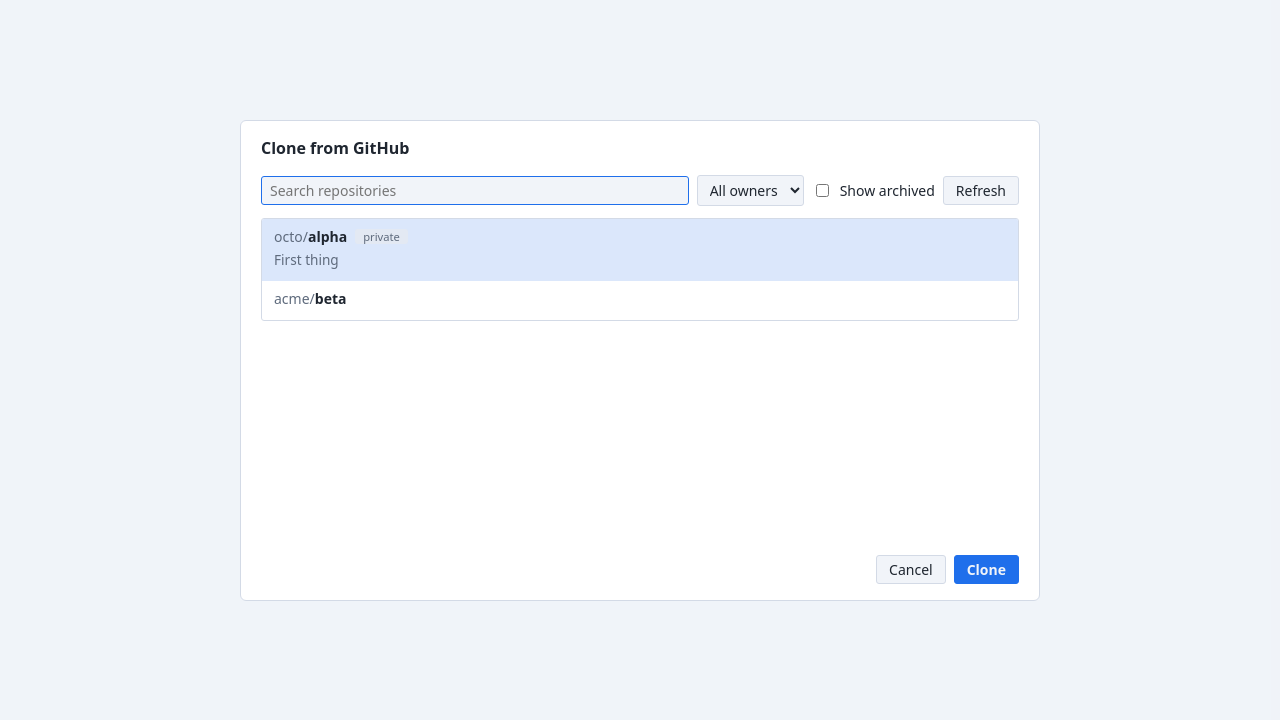
Test case: RepoPickerDialog › filters by search
Step 1. Type "FIRST" into the search field labelled "Search repositories" → (475,190), box 261,176 -> 689,204
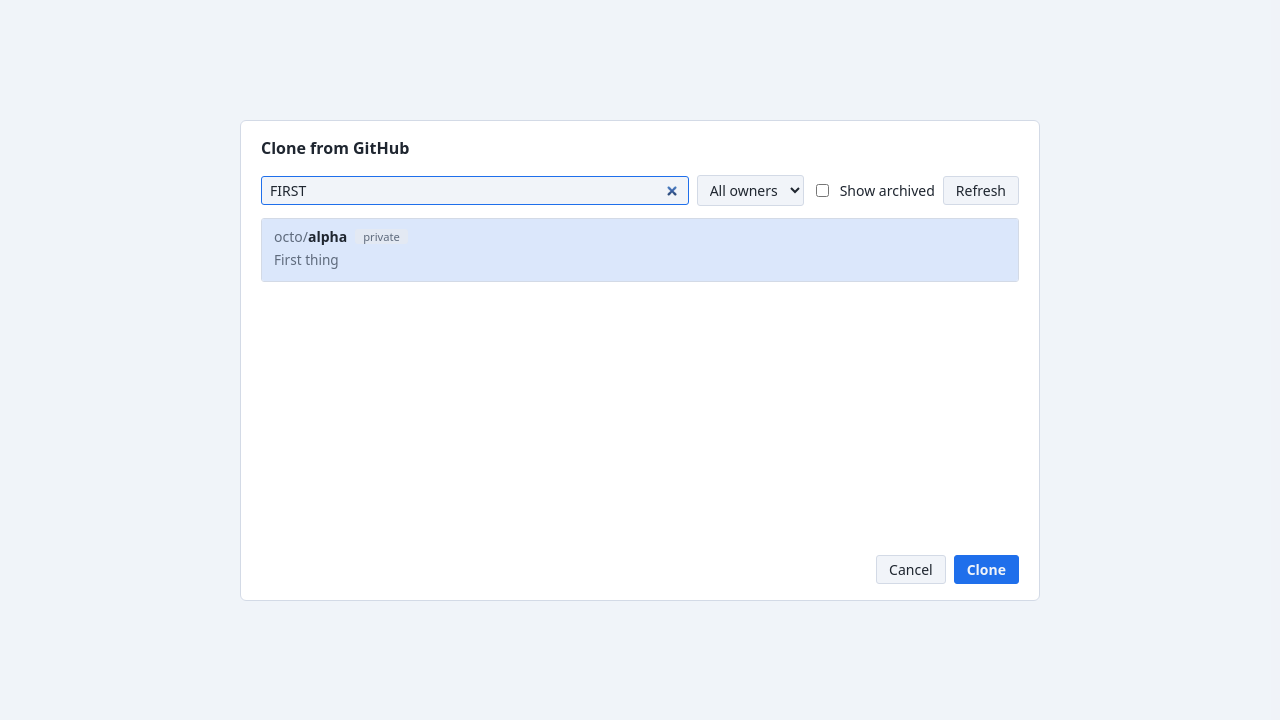
Expected: the text "alpha" is shown, 308,226 -> 347,246
Result: the number of options is 1 at 262,218 -> 1018,280
